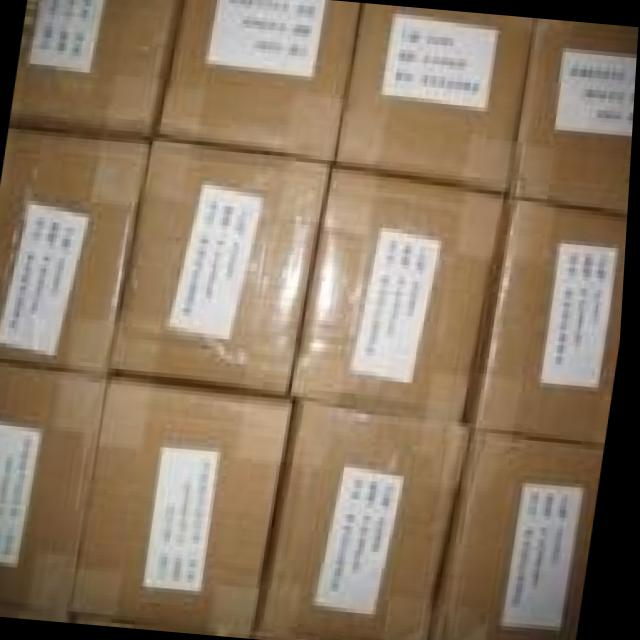box: (74, 376, 301, 634), (110, 138, 336, 396), (293, 166, 510, 421), (260, 396, 480, 640), (468, 198, 630, 443), (0, 124, 154, 373), (336, 4, 534, 196), (437, 422, 609, 640), (154, 0, 364, 162), (0, 358, 113, 618), (509, 22, 639, 210), (13, 0, 181, 137)
